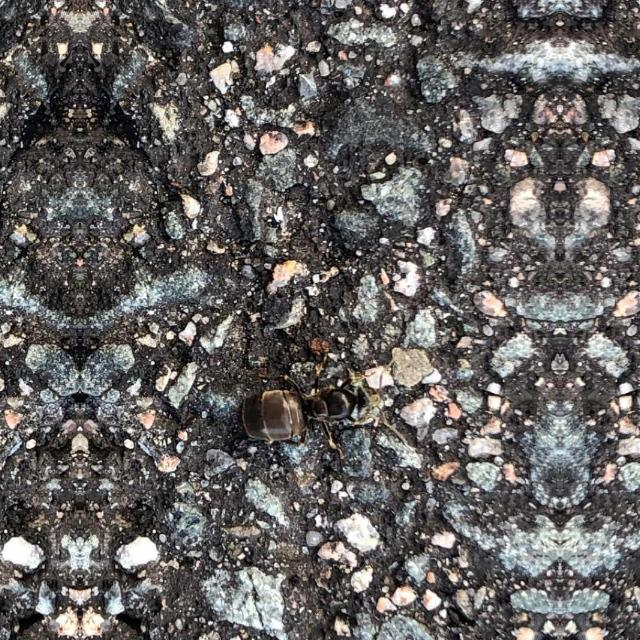Lasius: (234, 381, 398, 441)
